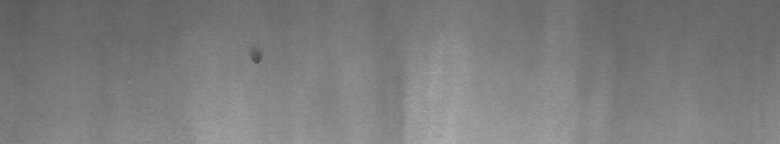fi: (248, 51, 264, 72)
